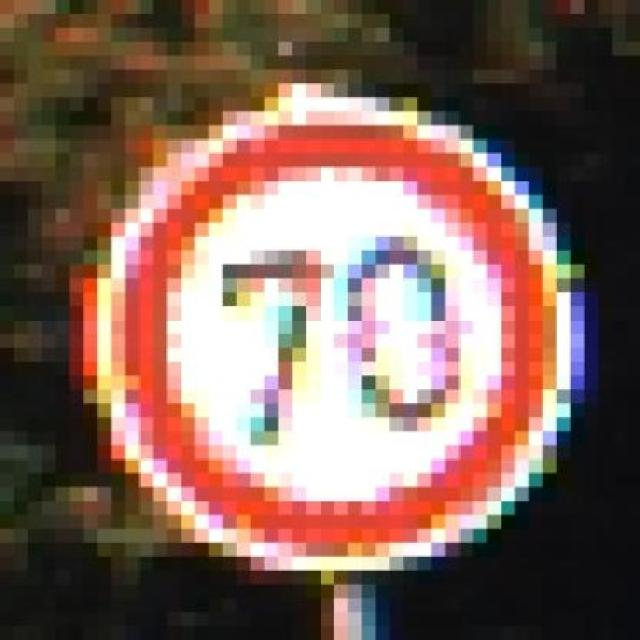forb_speed_over_70: (121, 109, 558, 560)
